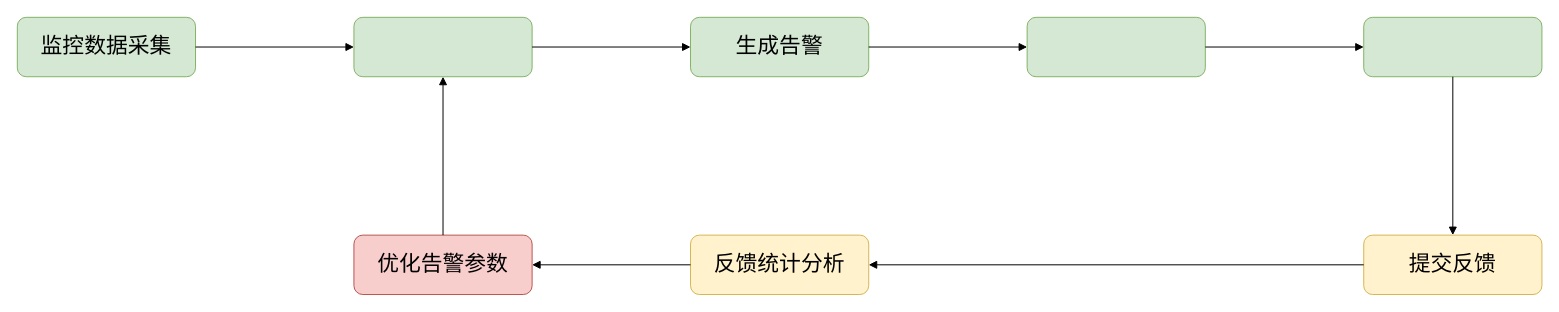
The diagram is 1559 pixels wide and 312 high, and some of its shapes have lost their labels. Each missing label, with the centre of its shape:
"发送通知" belongs at pixel 1115 46.
"异常检测分析" belongs at pixel 442 46.
"用户查看告警" belongs at pixel 1452 46.
